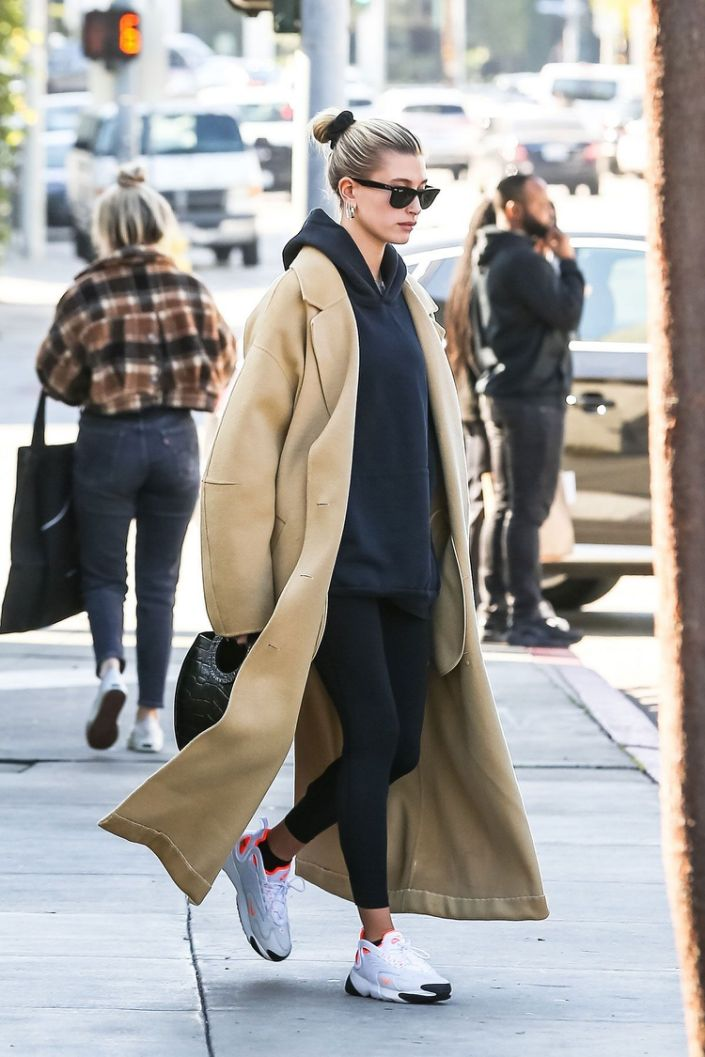Person: (204, 105, 476, 1004), (37, 159, 202, 749)
